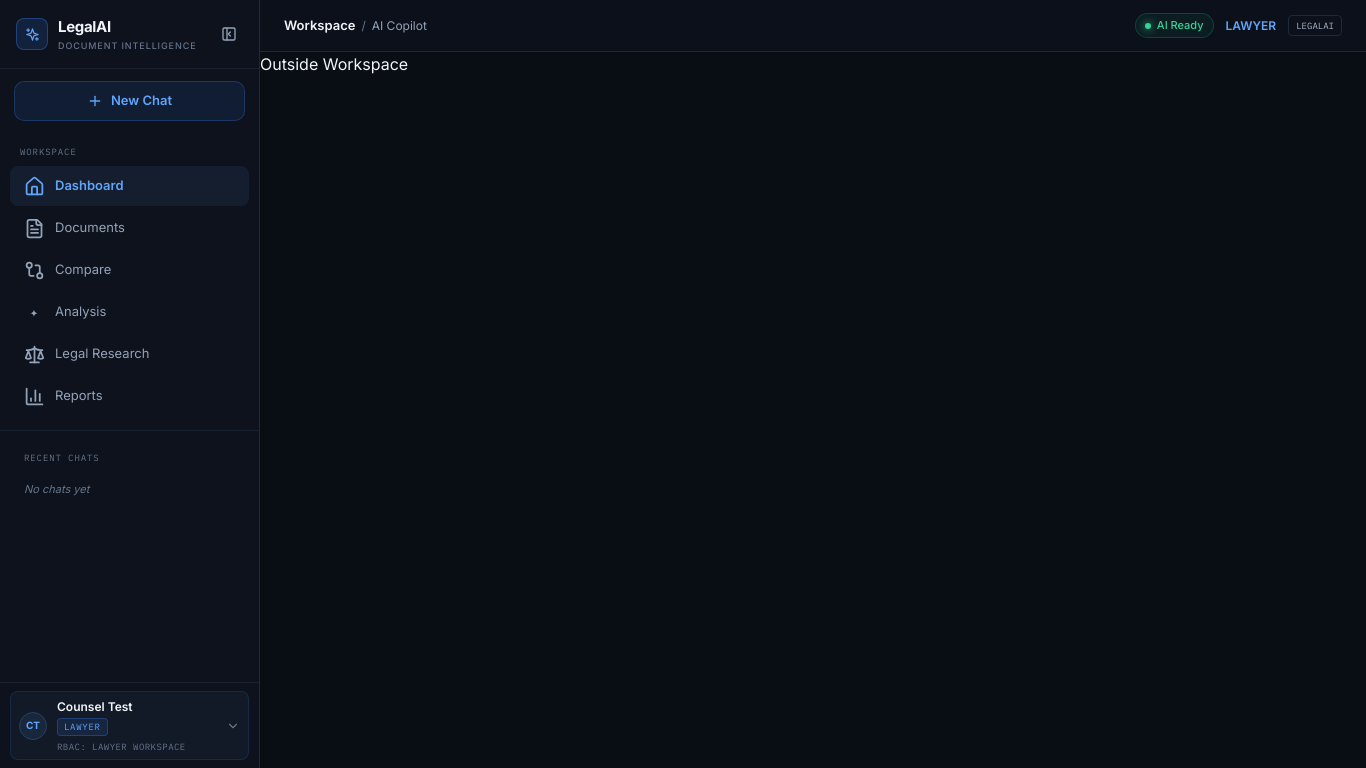
Test: AppShell Sidebar Navigation & Layout › profile menu closes on outside click and Escape key
Note: Open menu
Click the button "CT Counsel Test LAWYER RBAC: LAWYER workspace". click: (130, 726)
box: [10,691,249,760]
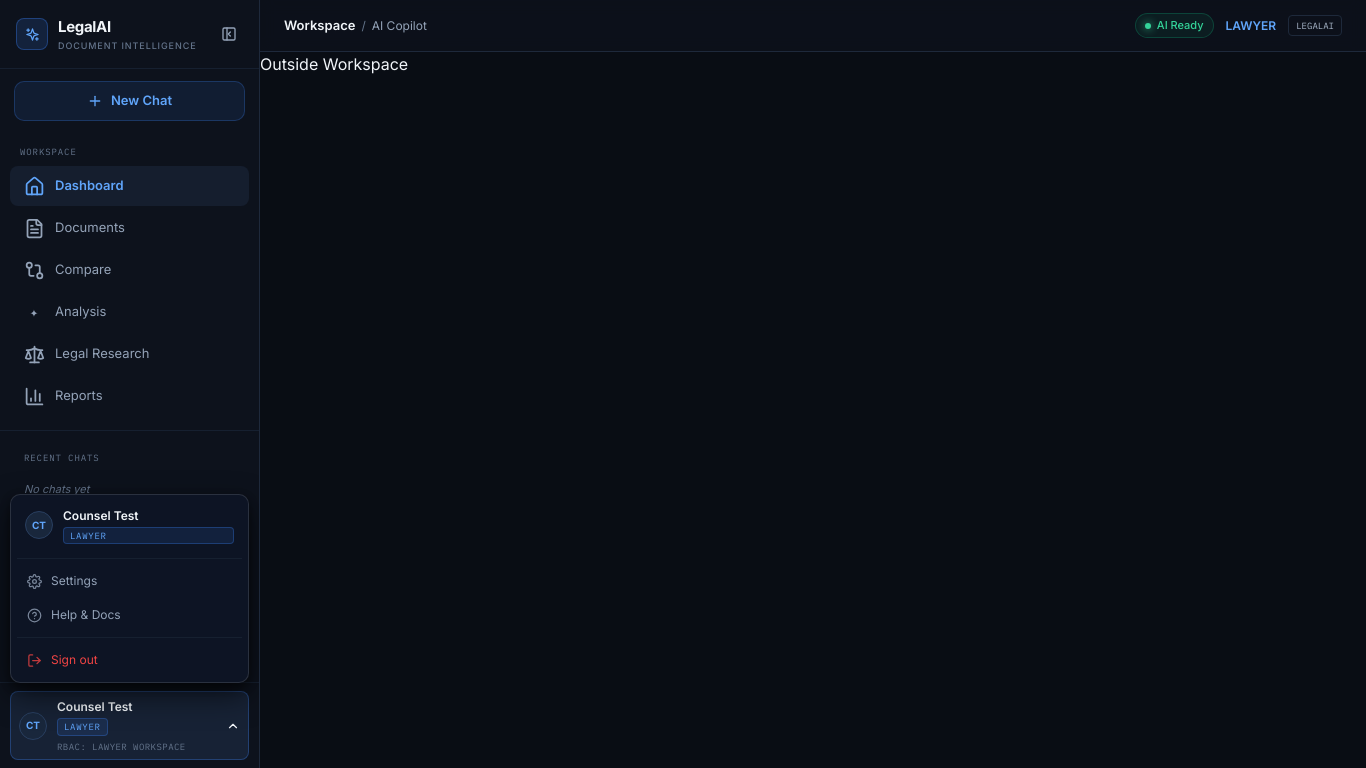
Expected: the link "Settings" is shown, [27,573,97,588]
Note: Escape closes menu
Press Escape
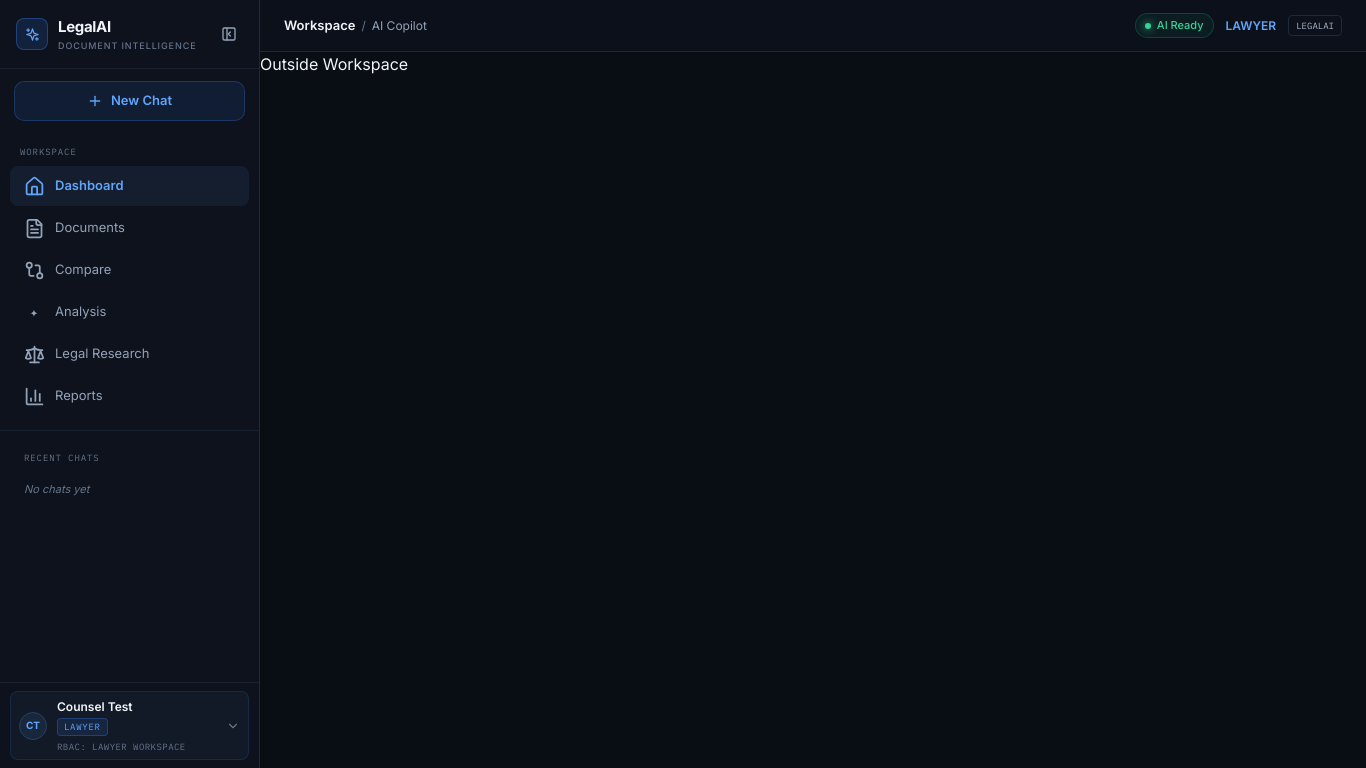
Expected: the link "Settings" is gone
Note: Open menu again
Click the button "CT Counsel Test LAWYER RBAC: LAWYER workspace". click: (130, 726)
box: [10,691,249,760]
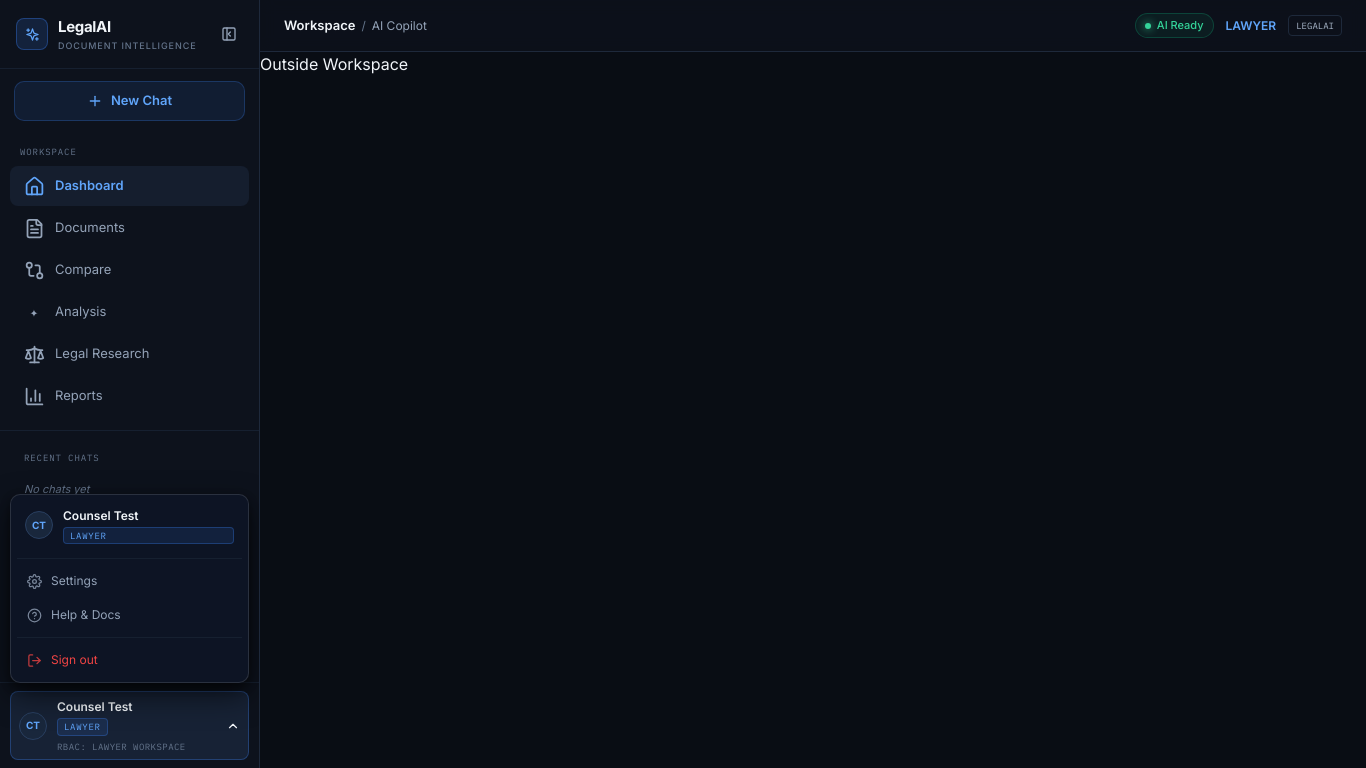
Expected: the link "Settings" is shown, [27,573,97,588]
Note: Outside click closes menu
Press the mouse on the text with test id "outside-area" at (334, 64), box [260,54,408,74]
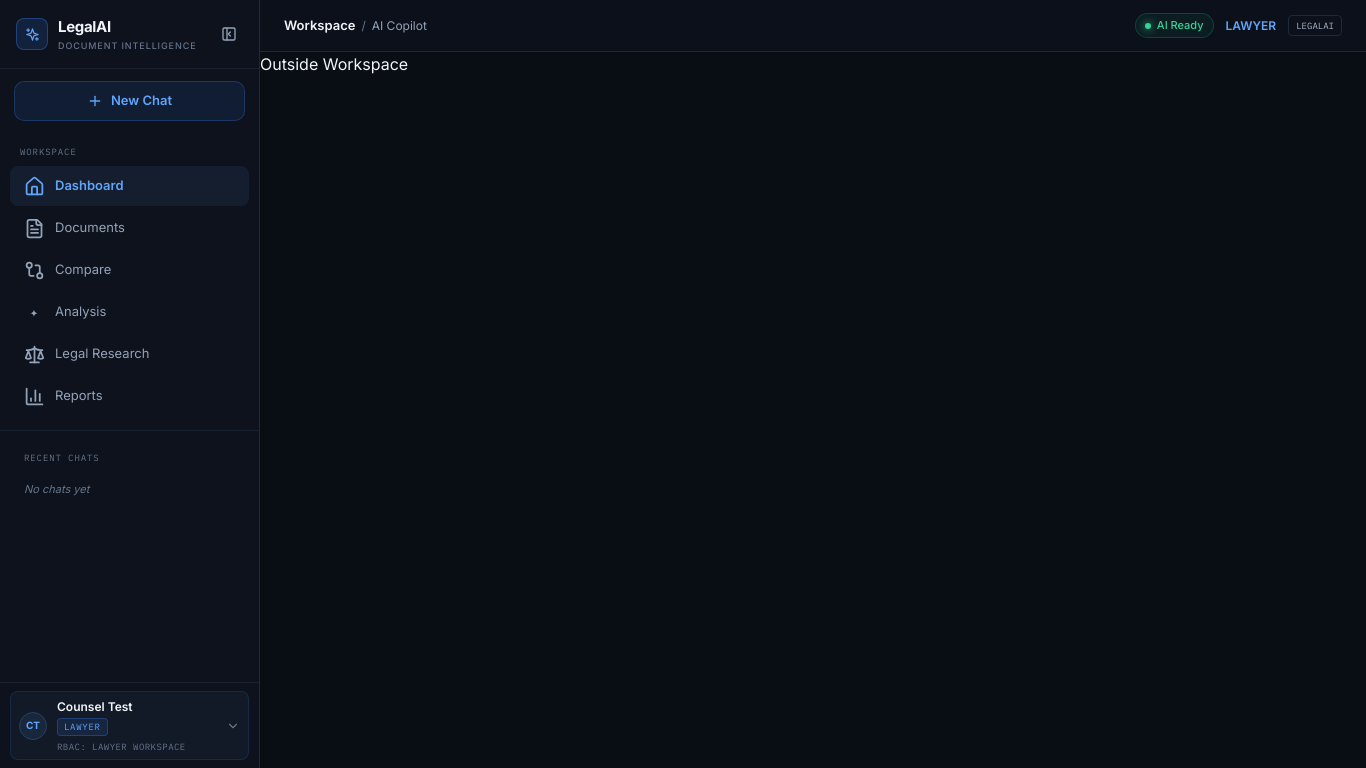
Expected: the link "Settings" is gone
